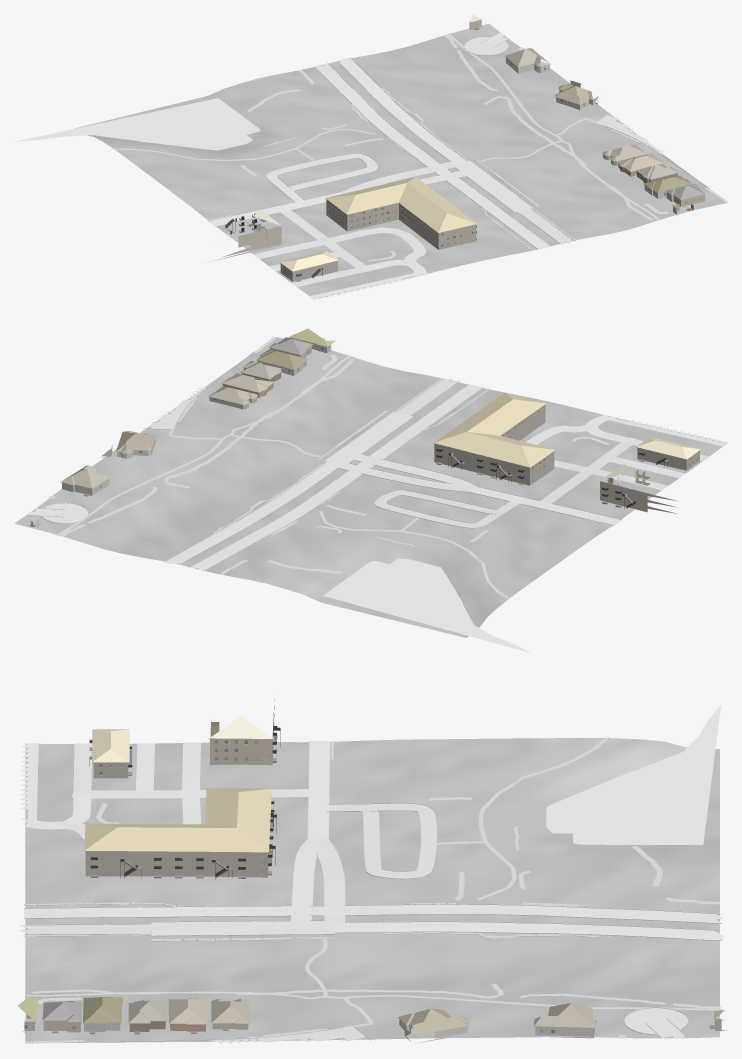
The picture shows the model from 3 angles, top to bottom: view 1: azimuth 30°, elevation 25°; view 2: azimuth 150°, elevation 25°; view 3: azimuth 270°, elevation 25°; orthographic projection. The views are drawn at different scales.
Visible parts, largest first — view 1: ground, asphalt, roof, concrete, water, wall, walk, curb, detail, mark_w, wall_stucco; view 2: ground, asphalt, roof, water, concrete, wall, walk, curb, detail, wall_stucco, mark_w; view 3: ground, asphalt, roof, water, concrete, walk, wall, curb, detail, mark_w, wall_stucco, rail (+1 smaller).
Boxes of the visible parts, x1,y1,x2,y2 form: ground: (75, 23, 727, 299); asphalt: (208, 58, 619, 249); roof: (253, 14, 706, 271); concrete: (254, 32, 663, 299); water: (15, 98, 260, 150); wall: (207, 20, 704, 281); walk: (111, 33, 727, 261); curb: (208, 32, 717, 250); detail: (225, 19, 711, 281); mark_w: (317, 58, 619, 247); wall_stucco: (506, 57, 677, 215); ground: (14, 337, 727, 637); asphalt: (151, 379, 621, 569); roof: (61, 328, 700, 488); water: (323, 558, 531, 653); concrete: (28, 388, 726, 527); wall: (37, 345, 699, 527); walk: (48, 337, 612, 599); curb: (28, 337, 621, 571); detail: (29, 337, 699, 526); wall_stucco: (62, 337, 333, 495); mark_w: (149, 379, 482, 569); ground: (25, 738, 719, 1043); asphalt: (19, 741, 723, 1041); roof: (18, 715, 724, 1035); water: (546, 705, 720, 844); concrete: (20, 742, 688, 1044); walk: (24, 736, 721, 1043); wall: (43, 692, 726, 1032); curb: (24, 741, 722, 1042); detail: (24, 720, 724, 1034); mark_w: (26, 899, 720, 1038); wall_stucco: (22, 1019, 594, 1043); rail: (89, 726, 280, 876).
Bounding box in the file's own units: 291 × 18.93 × 257.
